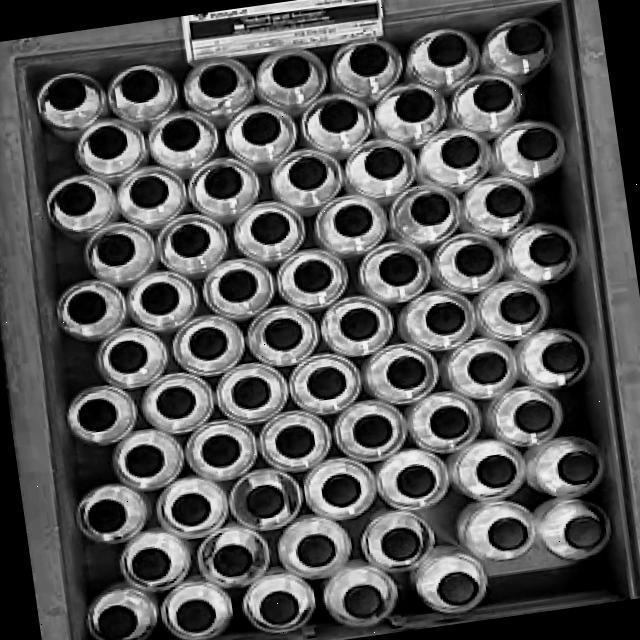vial: (542, 340, 584, 374), (476, 454, 517, 488), (55, 182, 96, 216), (98, 605, 137, 640), (488, 517, 528, 551), (212, 544, 253, 577), (343, 585, 384, 618), (564, 516, 605, 549), (425, 302, 466, 335), (364, 146, 405, 179), (260, 591, 299, 625), (171, 493, 211, 526), (381, 528, 421, 561), (438, 572, 478, 605), (396, 465, 436, 498), (515, 400, 555, 433), (468, 351, 508, 384), (387, 356, 427, 389), (473, 79, 513, 112), (88, 499, 126, 533), (132, 548, 171, 581), (322, 474, 361, 507), (276, 425, 315, 458), (379, 253, 418, 286), (455, 243, 494, 276), (171, 224, 210, 257), (242, 112, 281, 145), (395, 89, 434, 122), (518, 127, 557, 160), (507, 22, 546, 55), (251, 212, 290, 245), (558, 451, 598, 483), (353, 415, 393, 447), (246, 485, 284, 518), (126, 444, 164, 477), (232, 376, 270, 409), (110, 340, 148, 373), (141, 282, 179, 315), (219, 269, 257, 302), (340, 308, 378, 341), (89, 126, 127, 159), (429, 33, 467, 66), (177, 600, 216, 632), (430, 406, 469, 438), (157, 386, 196, 418), (68, 292, 107, 324), (294, 260, 333, 292), (264, 318, 303, 350), (501, 291, 540, 323), (486, 185, 525, 217), (530, 234, 570, 265), (298, 534, 335, 567), (202, 435, 240, 467), (308, 367, 346, 399), (79, 399, 117, 431), (97, 233, 135, 265), (320, 100, 358, 132), (350, 44, 388, 76), (200, 65, 238, 97), (121, 70, 159, 102), (47, 78, 85, 110), (130, 176, 169, 207), (190, 327, 227, 359), (290, 157, 327, 189), (412, 193, 449, 225), (442, 136, 479, 168), (273, 55, 310, 87), (335, 205, 373, 236), (205, 167, 241, 199), (163, 119, 200, 150)
